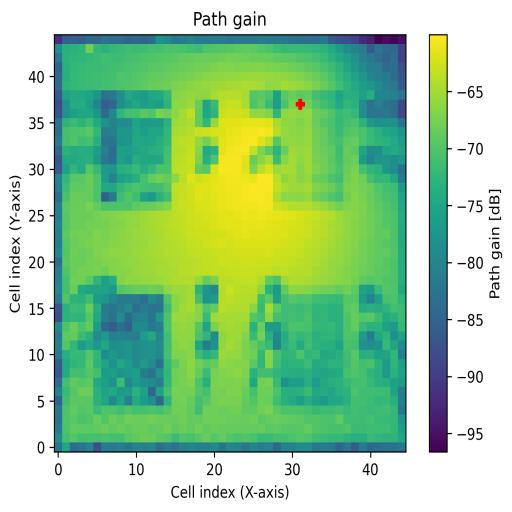Concrete: (273, 91, 344, 201)
Glass: (94, 92, 172, 210)
Metal: (281, 294, 344, 406)
Wood: (92, 295, 172, 415)
